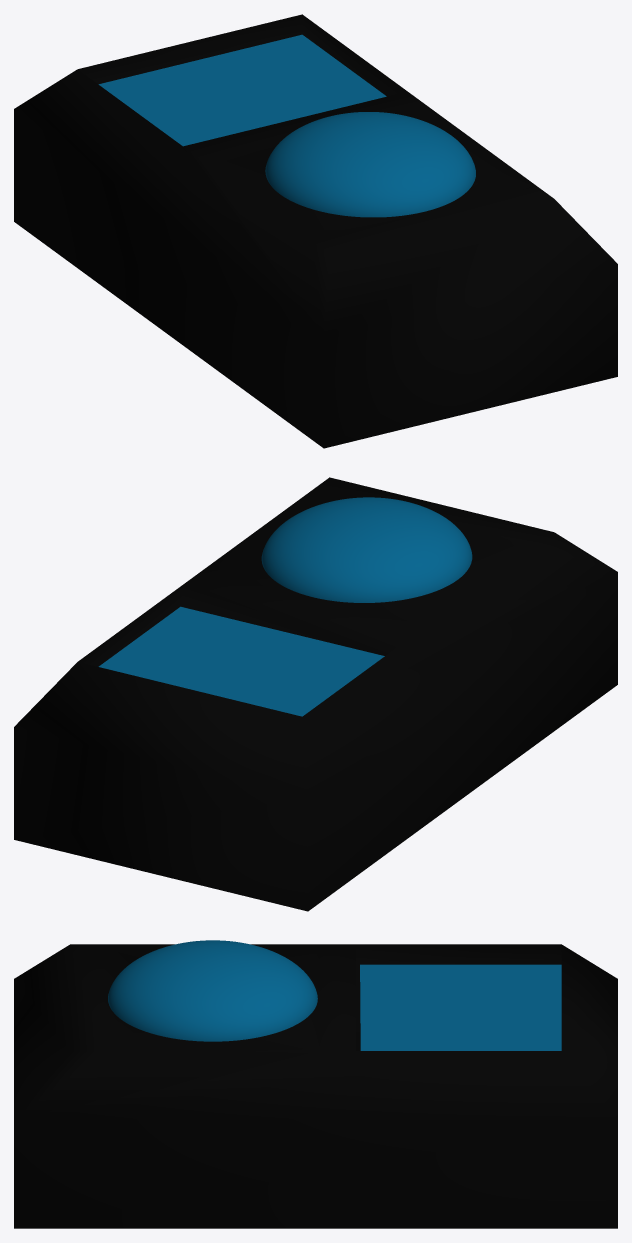
File: Button V2.fbx
3 views of the same model, one above another, from view 1: azimuth 30°, elevation 25°; view 2: azimuth 150°, elevation 25°; view 3: azimuth 270°, elevation 25° (orthographic). The views are drawn at different scales.
Parts seen in each view (by area): view 1: node_id3, root (×2); view 2: node_id3, root (×2); view 3: node_id3, root (×2).
Boxes of the visible parts, bbox=[...] form: node_id3: bbox=[14, 14, 617, 448]; root (×2): bbox=[98, 34, 475, 217]; node_id3: bbox=[14, 477, 617, 911]; root (×2): bbox=[98, 497, 472, 716]; node_id3: bbox=[14, 944, 617, 1228]; root (×2): bbox=[108, 940, 561, 1050].
Bounding box in the file's own units: 0.512 × 0.3445 × 0.9345.
Materials: 3 (2 with a texture image).
